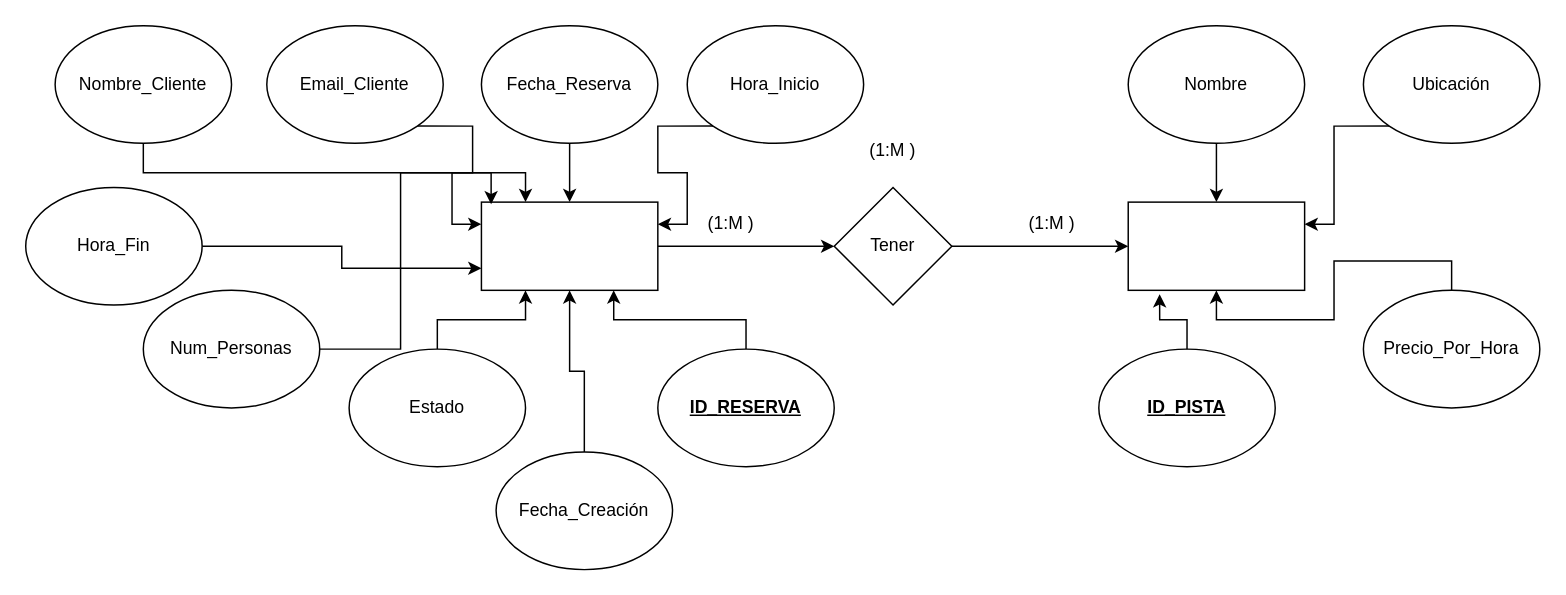
This 1566x595 diagram has some shape labels left out. The centre of each missing label's shape, as x and y in pixels:
Pistas: [1216,245]
Reserva: [569,245]
